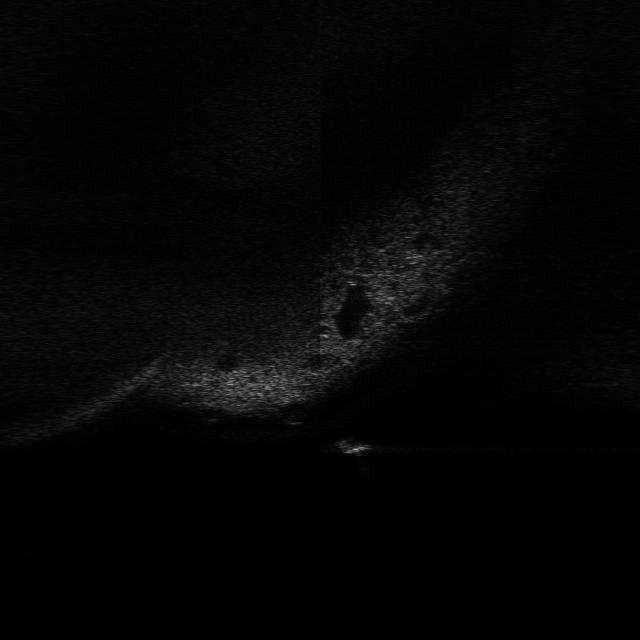cube: (328, 435, 382, 460)
